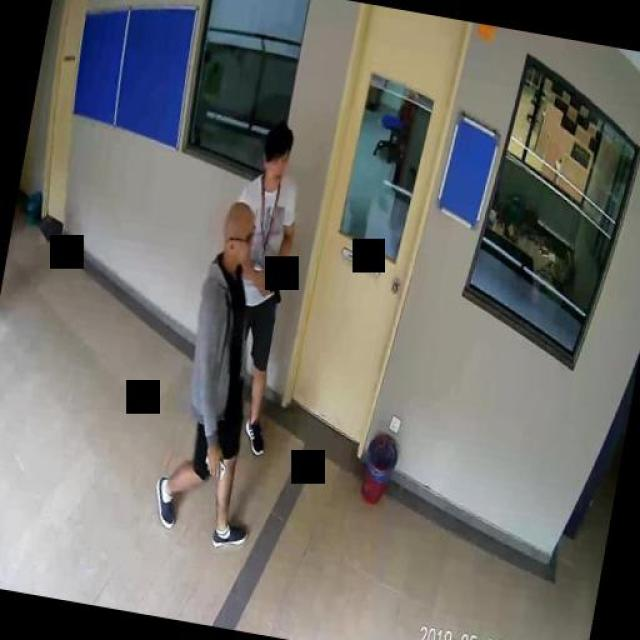gun: (259, 262, 285, 302)
